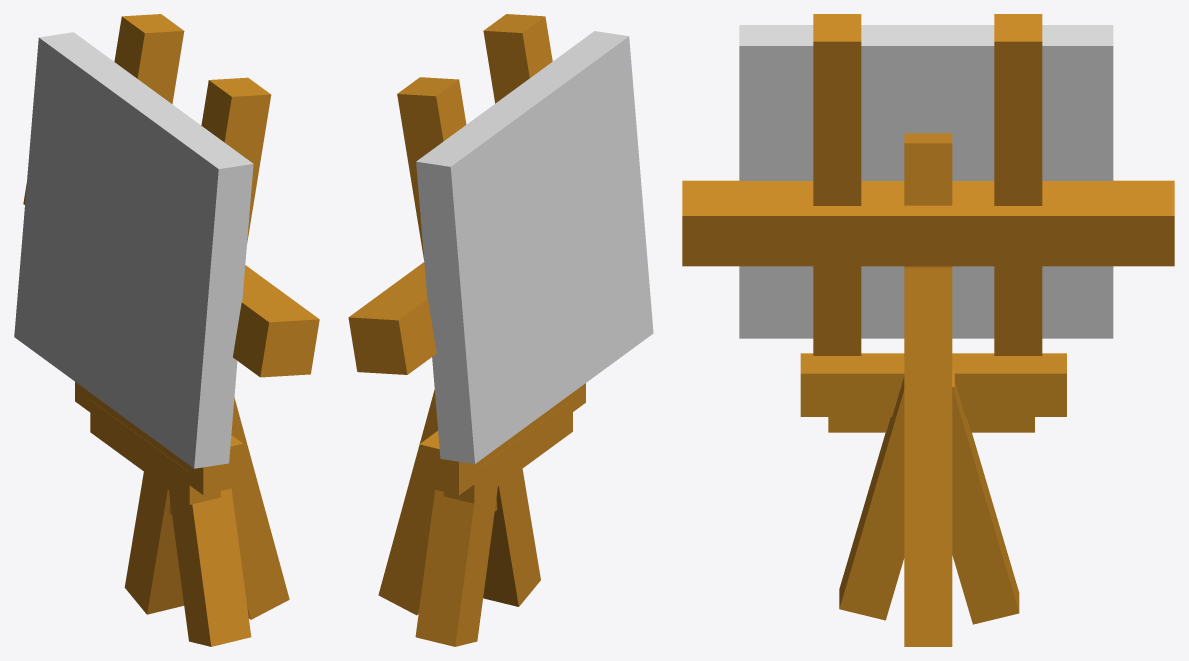
File: Canvas.fbx
3 renders of one model, left to right at view 1: azimuth 30°, elevation 25°; view 2: azimuth 150°, elevation 25°; view 3: azimuth 270°, elevation 25°, orthographic. The views are drawn at different scales.
Parts seen in each view (by area): view 1: Canvas, CanvasLegs; view 2: Canvas, CanvasLegs; view 3: CanvasLegs, Canvas.
Part boxes in pixels (box(x1,y1,x2,y2)): Canvas: box(14, 32, 253, 468); CanvasLegs: box(23, 14, 319, 646); Canvas: box(416, 31, 653, 463); CanvasLegs: box(348, 14, 585, 646); CanvasLegs: box(682, 14, 1174, 646); Canvas: box(739, 25, 1113, 338).
Size of the model in its own units: 892 by 2786 by 2091.
